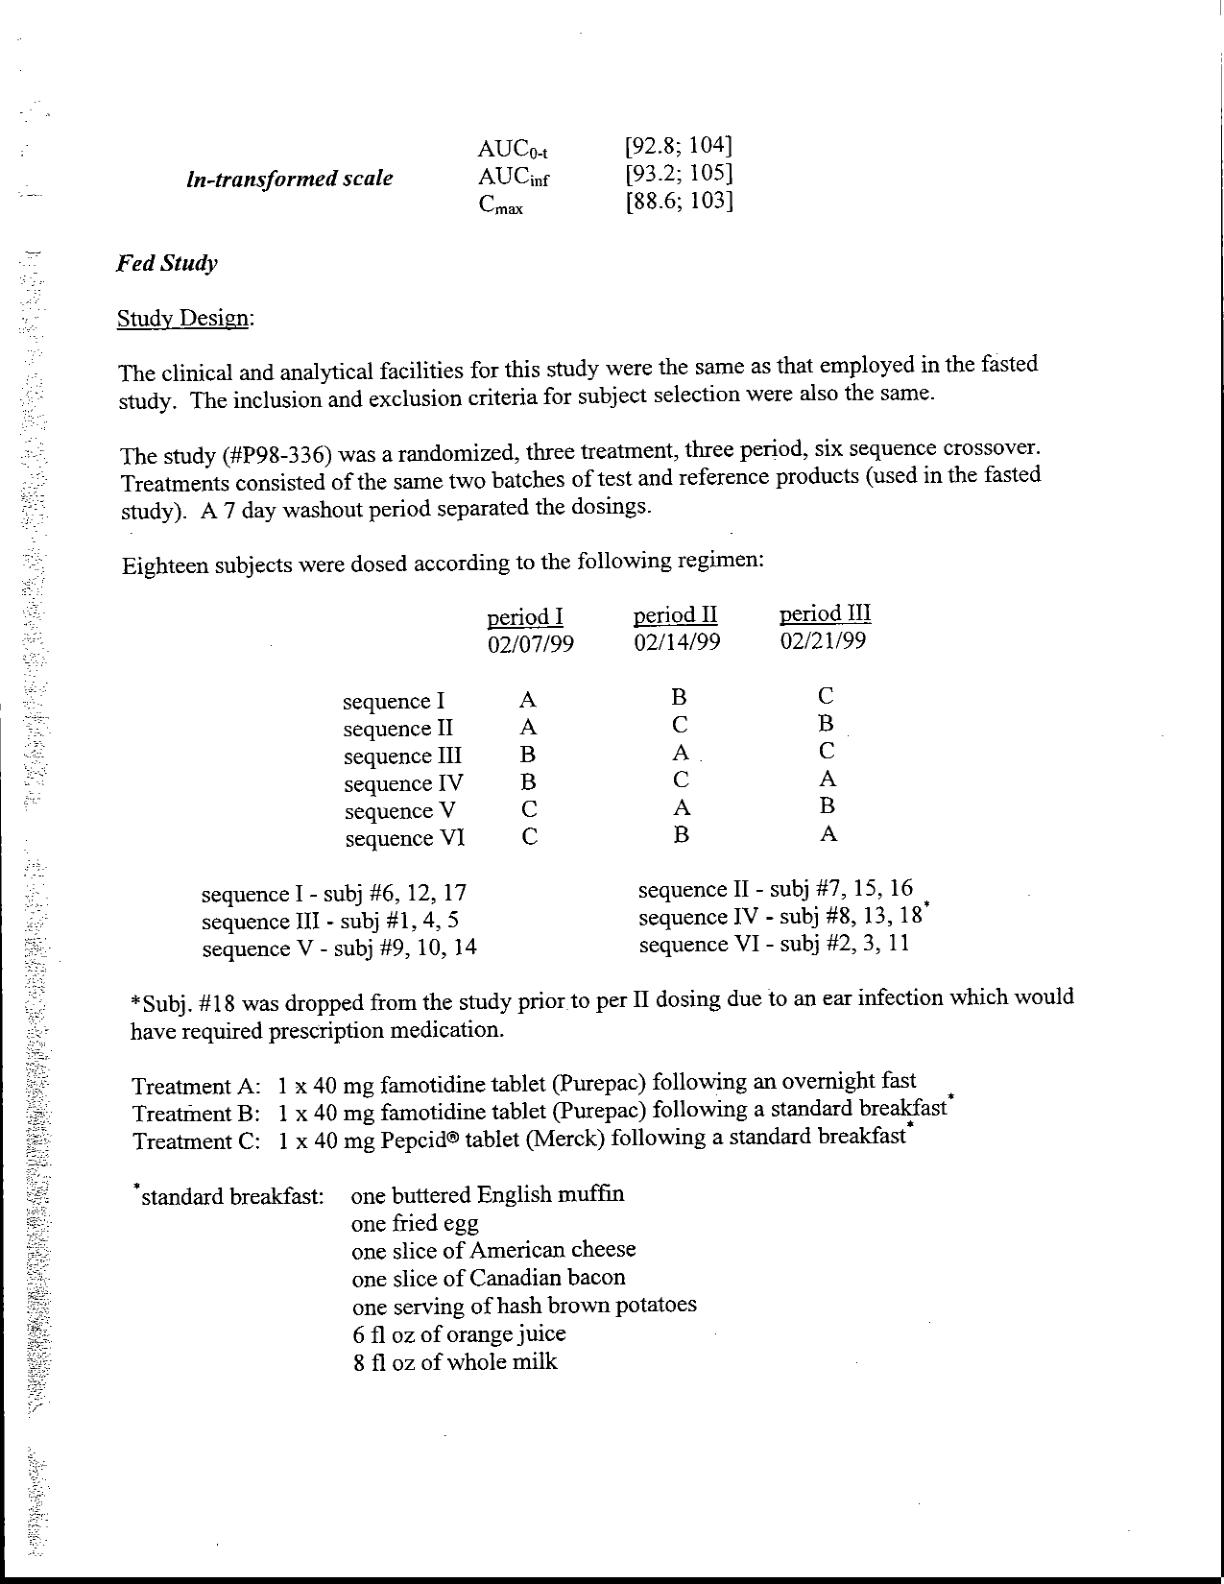nolines: (342, 591, 870, 850), (131, 1180, 702, 1372), (198, 876, 928, 966), (185, 134, 735, 216)
